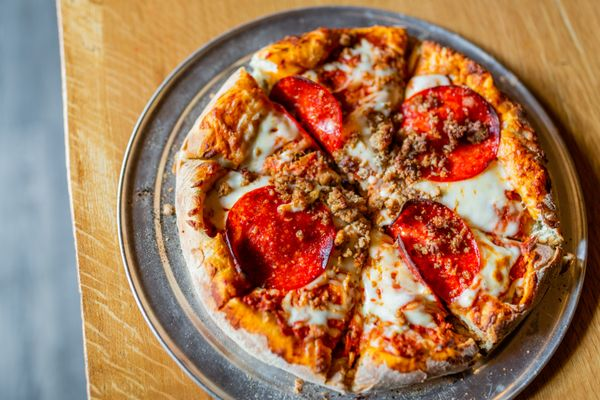curry: (28, 0, 599, 393)
sandwich: (171, 23, 565, 391)
